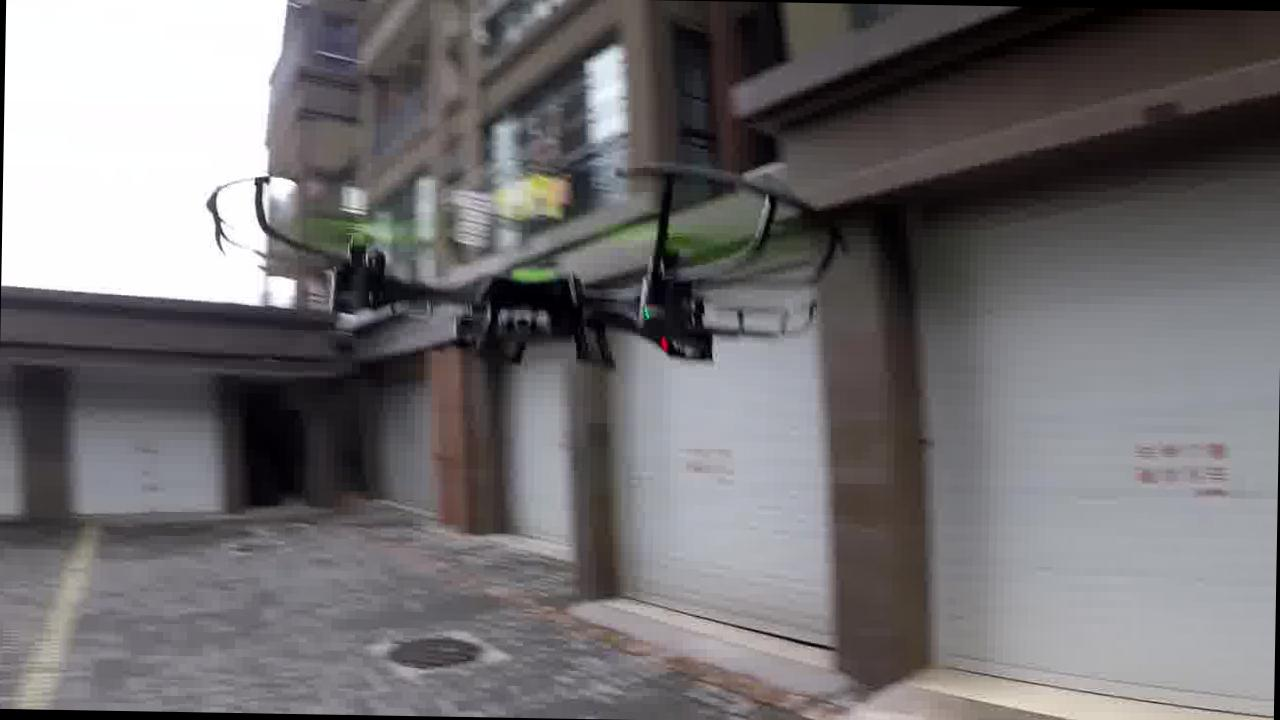drone: (210, 172, 862, 395)
